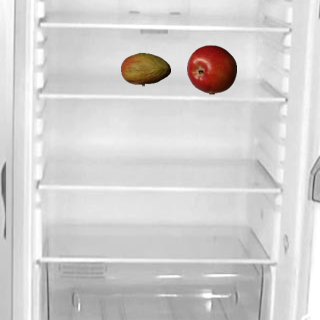Apple Braeburn: (186, 44, 236, 94)
Papaya: (120, 44, 170, 94)
